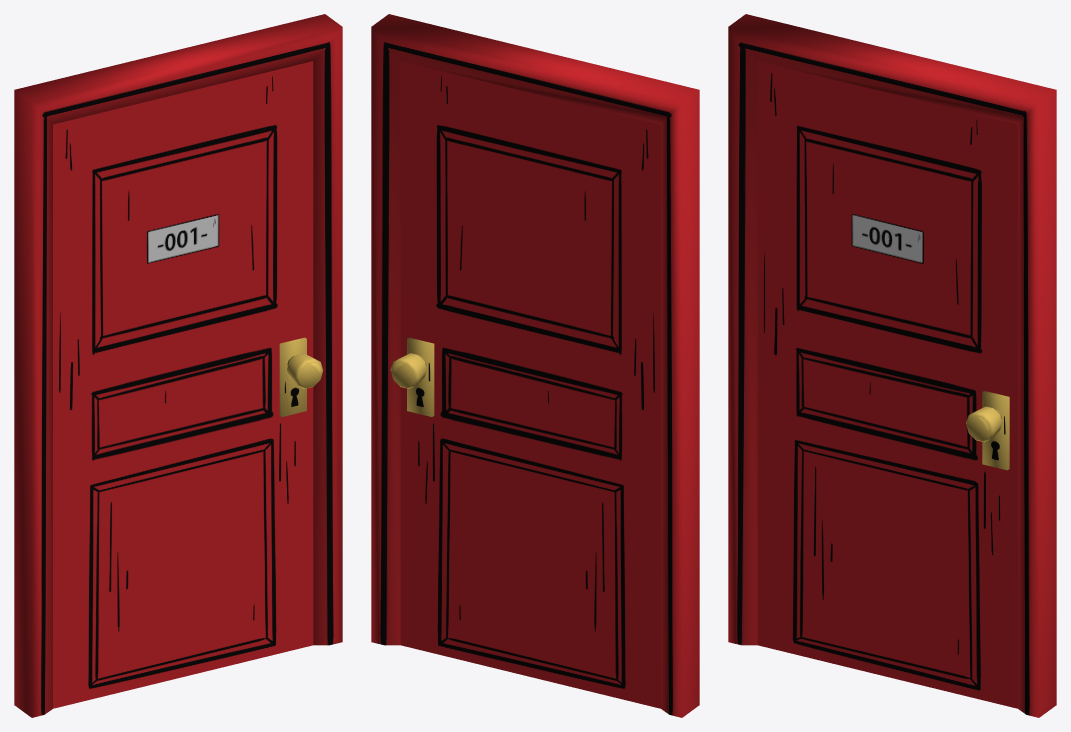
File: RedDoor.fbx
The picture shows the model from 3 angles, left to right: view 1: azimuth 30°, elevation 25°; view 2: azimuth 150°, elevation 25°; view 3: azimuth 330°, elevation 25°; orthographic projection.
Visible parts, largest first — view 1: RedDoor1, RedDoor2; view 2: RedDoor1, RedDoor2; view 3: RedDoor1, RedDoor2.
Boxes of the visible parts, bbox=[...] form: RedDoor1: bbox=[53, 61, 323, 708]; RedDoor2: bbox=[14, 14, 342, 717]; RedDoor1: bbox=[390, 61, 660, 708]; RedDoor2: bbox=[371, 14, 699, 717]; RedDoor1: bbox=[757, 61, 1017, 708]; RedDoor2: bbox=[728, 14, 1056, 717].
Size of the model in its own units: 6.85 by 12.94 by 1.77.
2 materials, 2 textured.
